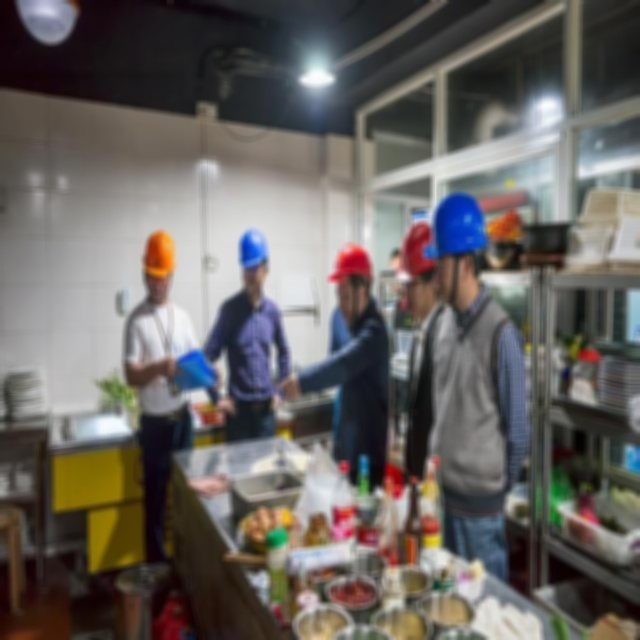Con_Casco: (430, 196, 488, 298), (330, 248, 374, 316), (143, 235, 176, 298)
Sin_Chaleco: (429, 304, 519, 487), (224, 296, 286, 403)
